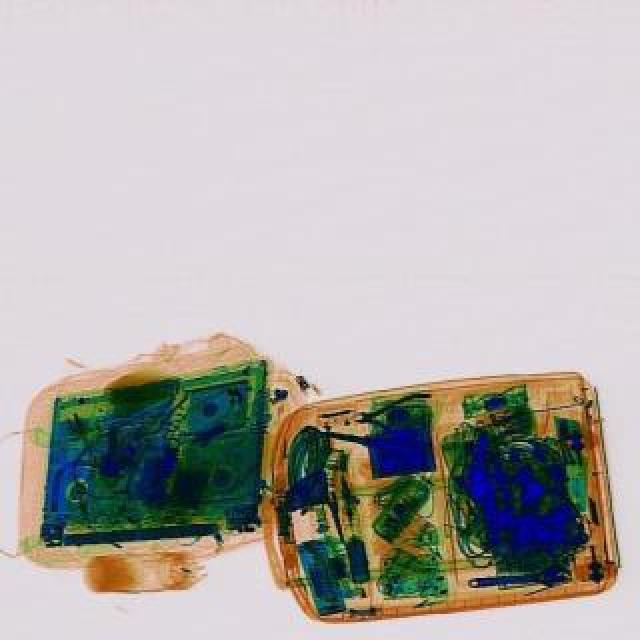scissors: (468, 558, 572, 594)
wrench: (352, 392, 432, 438)
